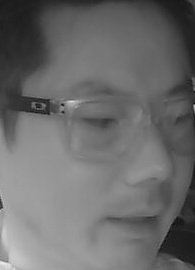eye: (83, 112, 120, 135)
glass: (59, 95, 141, 160), (160, 97, 194, 156)
mouth: (104, 199, 164, 241)
